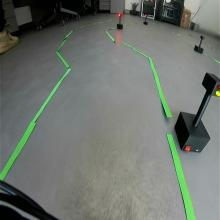green: (201, 72, 220, 97)
